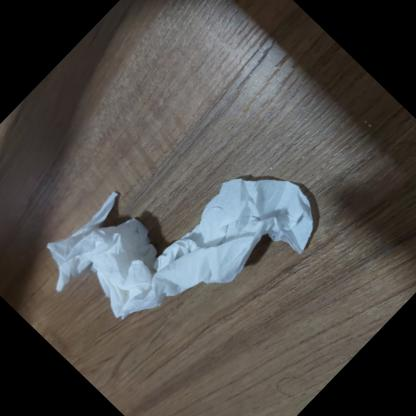paper: (22, 85, 337, 401)
